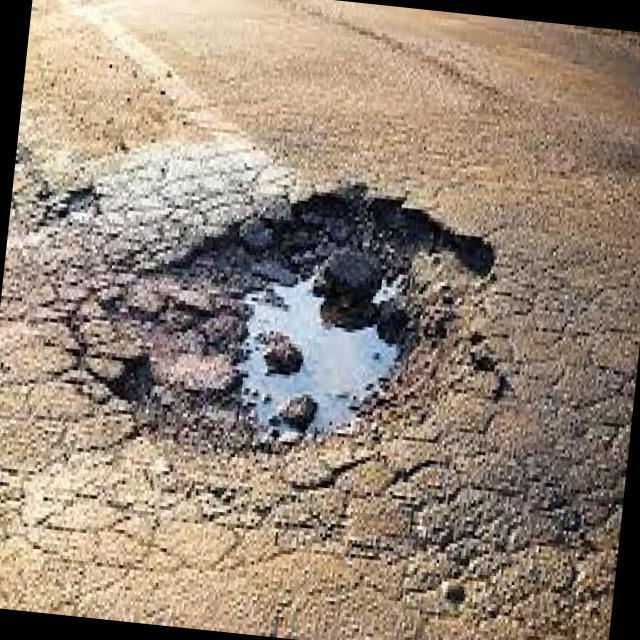Pothole: (104, 186, 495, 446)
